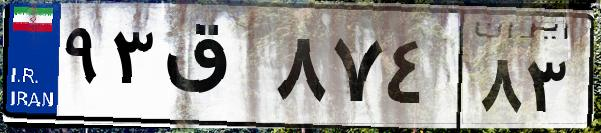3: (525, 38, 570, 115), (110, 28, 158, 98)
4: (385, 28, 445, 110)
7: (330, 28, 385, 110)
8: (270, 28, 330, 110), (475, 38, 525, 113)
9: (57, 26, 110, 100)
ق: (158, 20, 270, 120)
